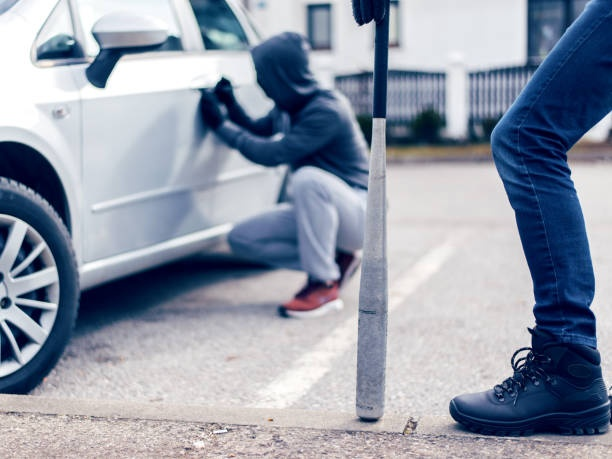bita: (349, 6, 396, 416)
